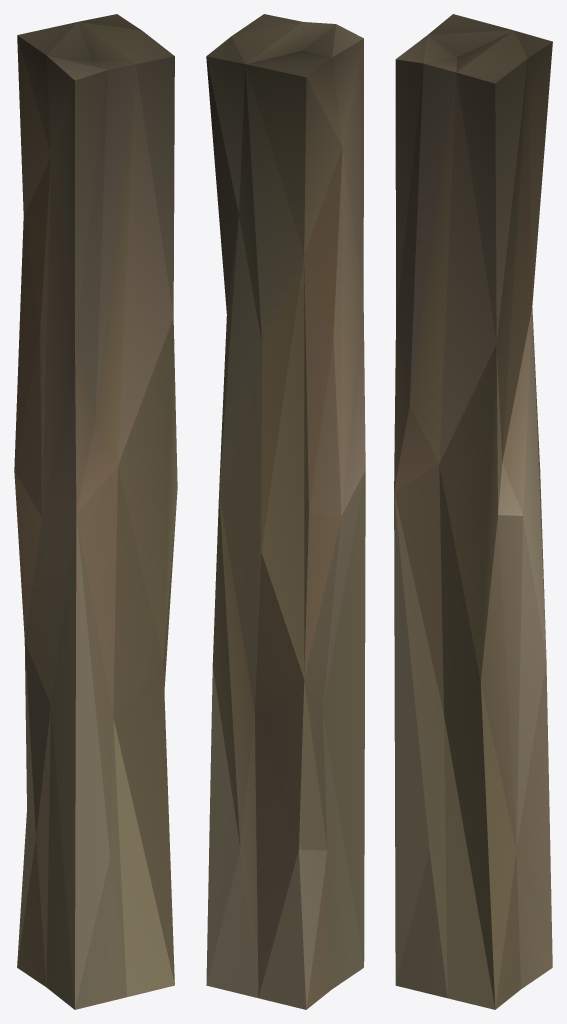
The model's file is Wall_UG-PostB.fbx.
3 views of the same model, side by side, from view 1: azimuth 30°, elevation 25°; view 2: azimuth 150°, elevation 25°; view 3: azimuth 330°, elevation 25° (orthographic).
Parts seen in each view (by area): view 1: Wall_UG-PostB; view 2: Wall_UG-PostB; view 3: Wall_UG-PostB.
Boxes of the visible parts, x1,y1,x2,y2 form: Wall_UG-PostB: [14, 14, 177, 1009]; Wall_UG-PostB: [206, 14, 365, 1009]; Wall_UG-PostB: [394, 14, 552, 1009].
Bounding box in the file's own units: 49.57 × 410 × 49.89.
